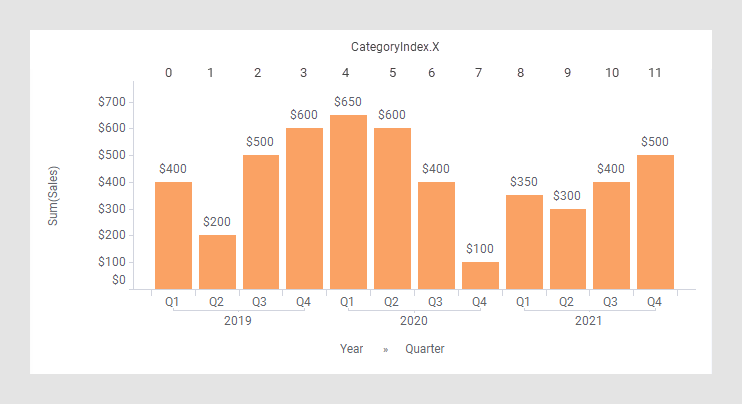OK_NoIssue: (41, 40, 702, 365)
